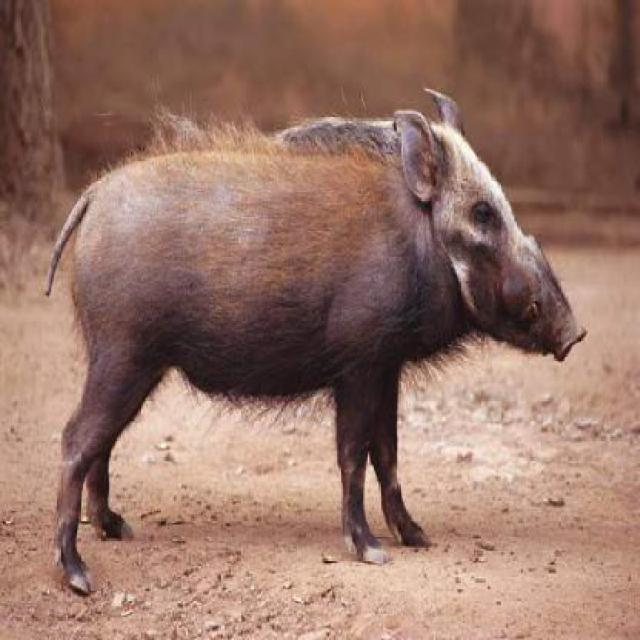wildboar: (37, 75, 595, 607)
